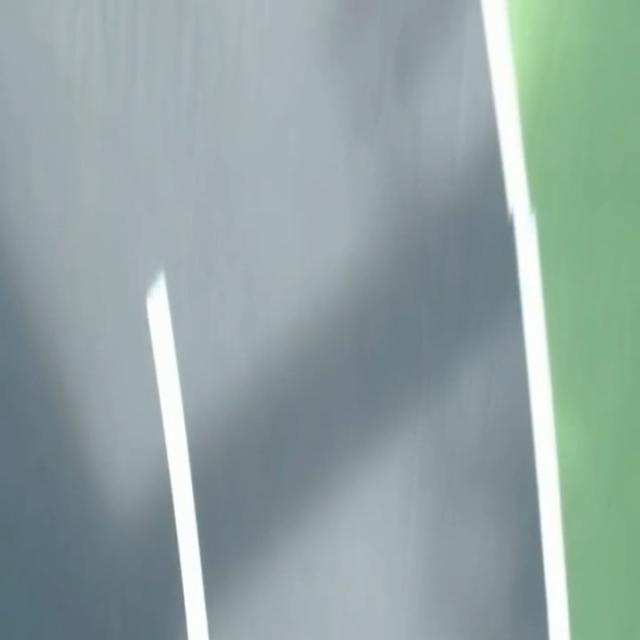center: (147, 272, 209, 639)
right: (481, 0, 570, 639)
